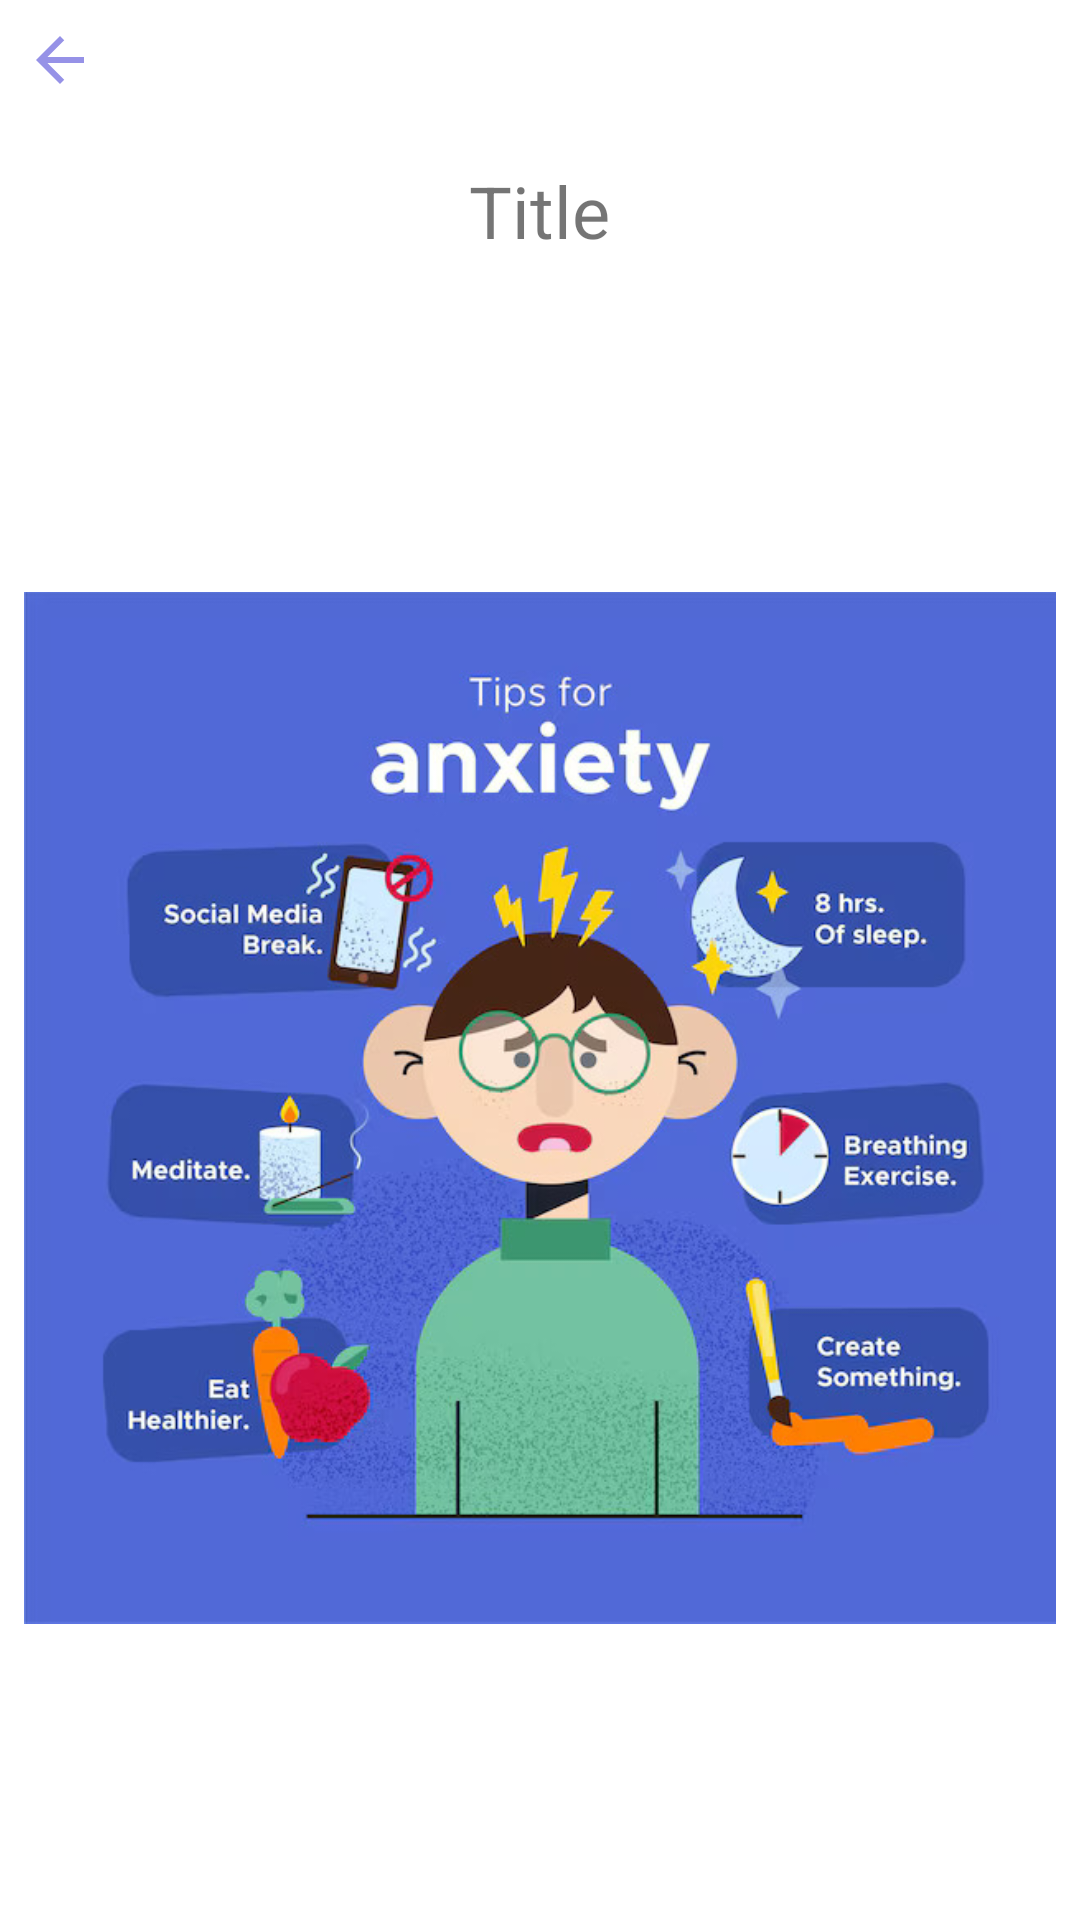

Where to tap for icons on this 1080×1920 app screen, as (x=x, y=y):
Back: (x=60, y=60)
